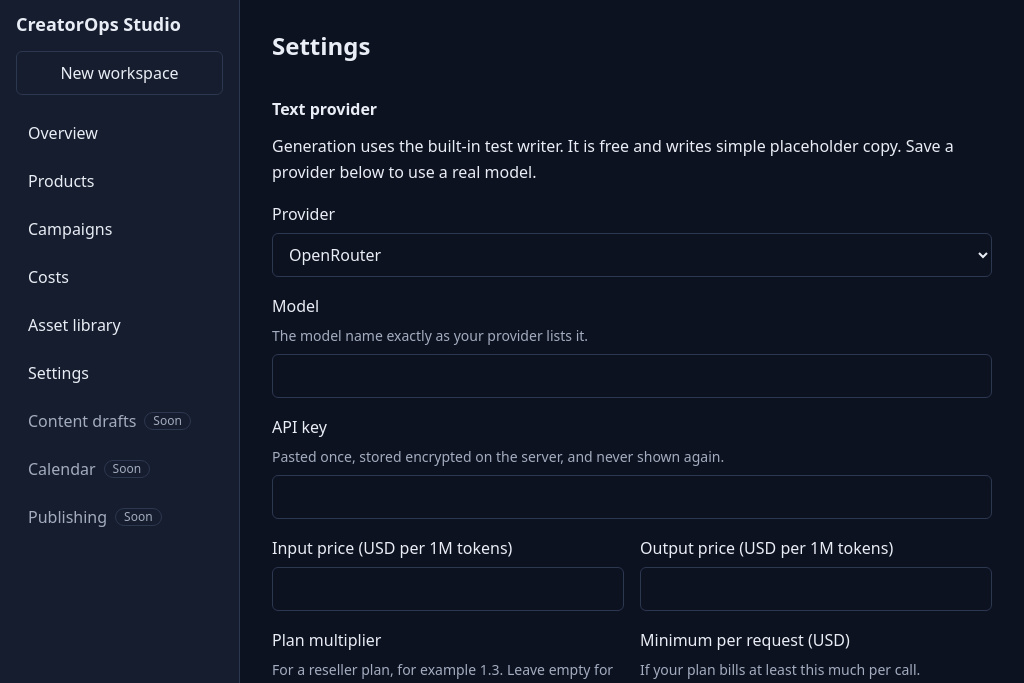
Test case: Settings: text provider › starts on the built-in writer and saves OpenRouter with a key, then forgets the key
In the field labelled "Model": (632, 376) [272,354,992,398], type "vendor/model-x"
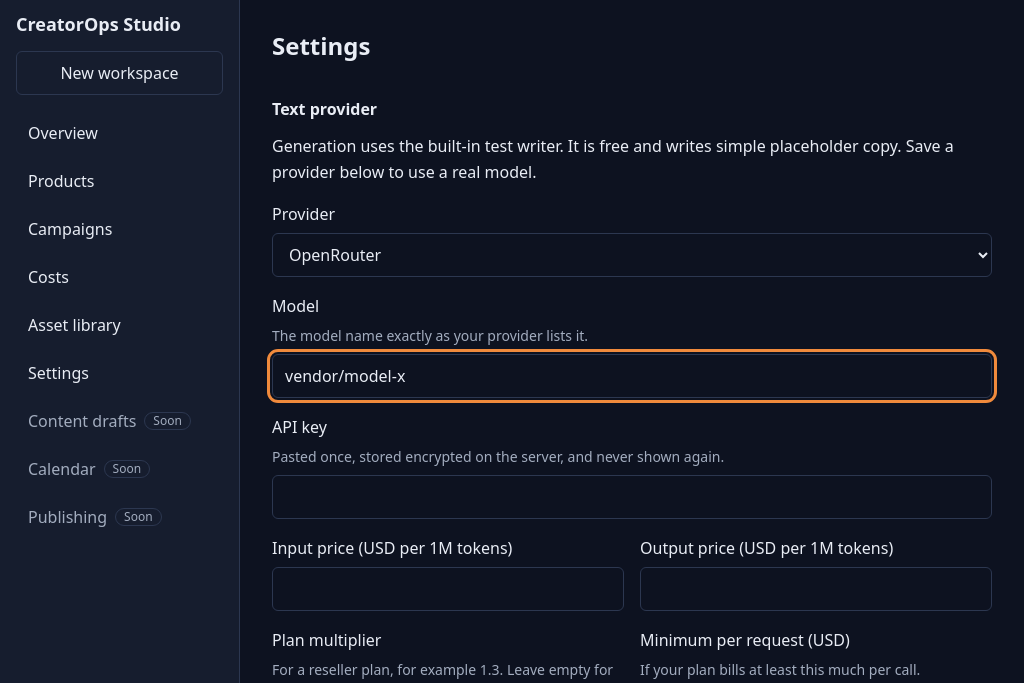
In the password field labelled "API key": (632, 496) [272,474,992,518], type "sk-or-v1-0123456789WXYZ"
(page scrolled)
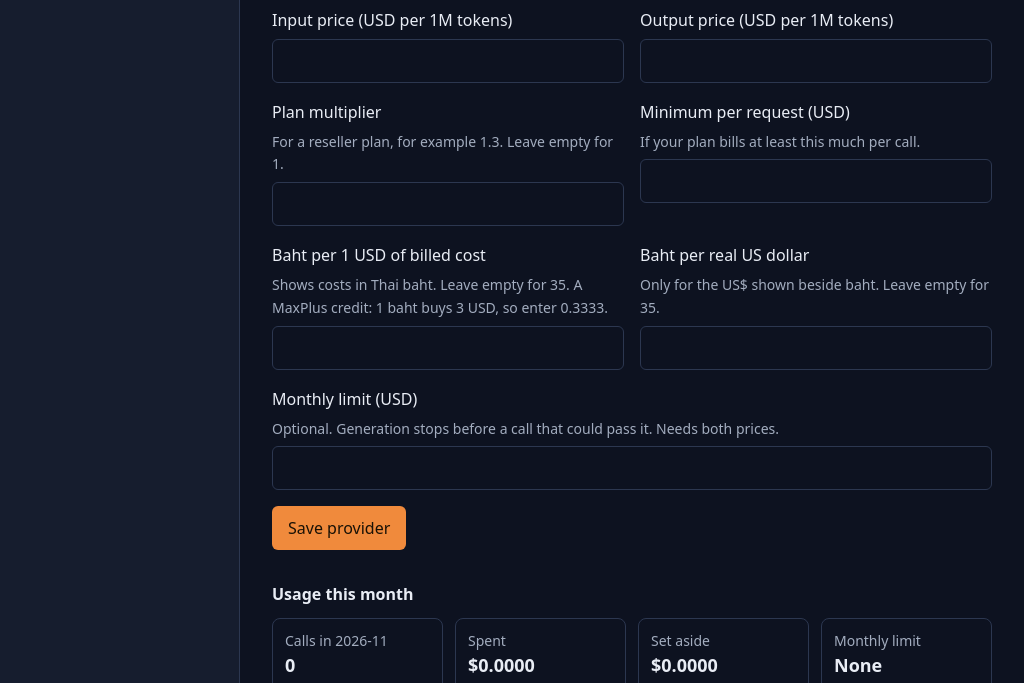
Click the button "Save provider": (339, 528) [272,506,406,550]
(page scrolled)
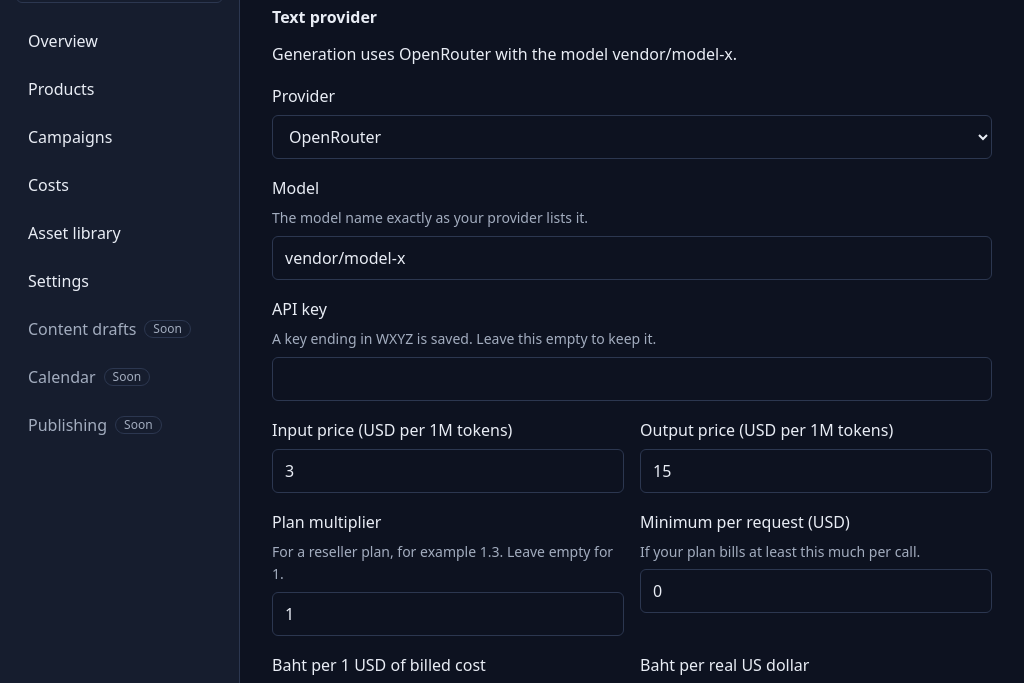
Now the text "A key ending in WXYZ is saved. Leave this empty to keep it." is shown, box [272,329,656,348]
Now the password field labelled "API key" is empty, box [272,356,992,400]
